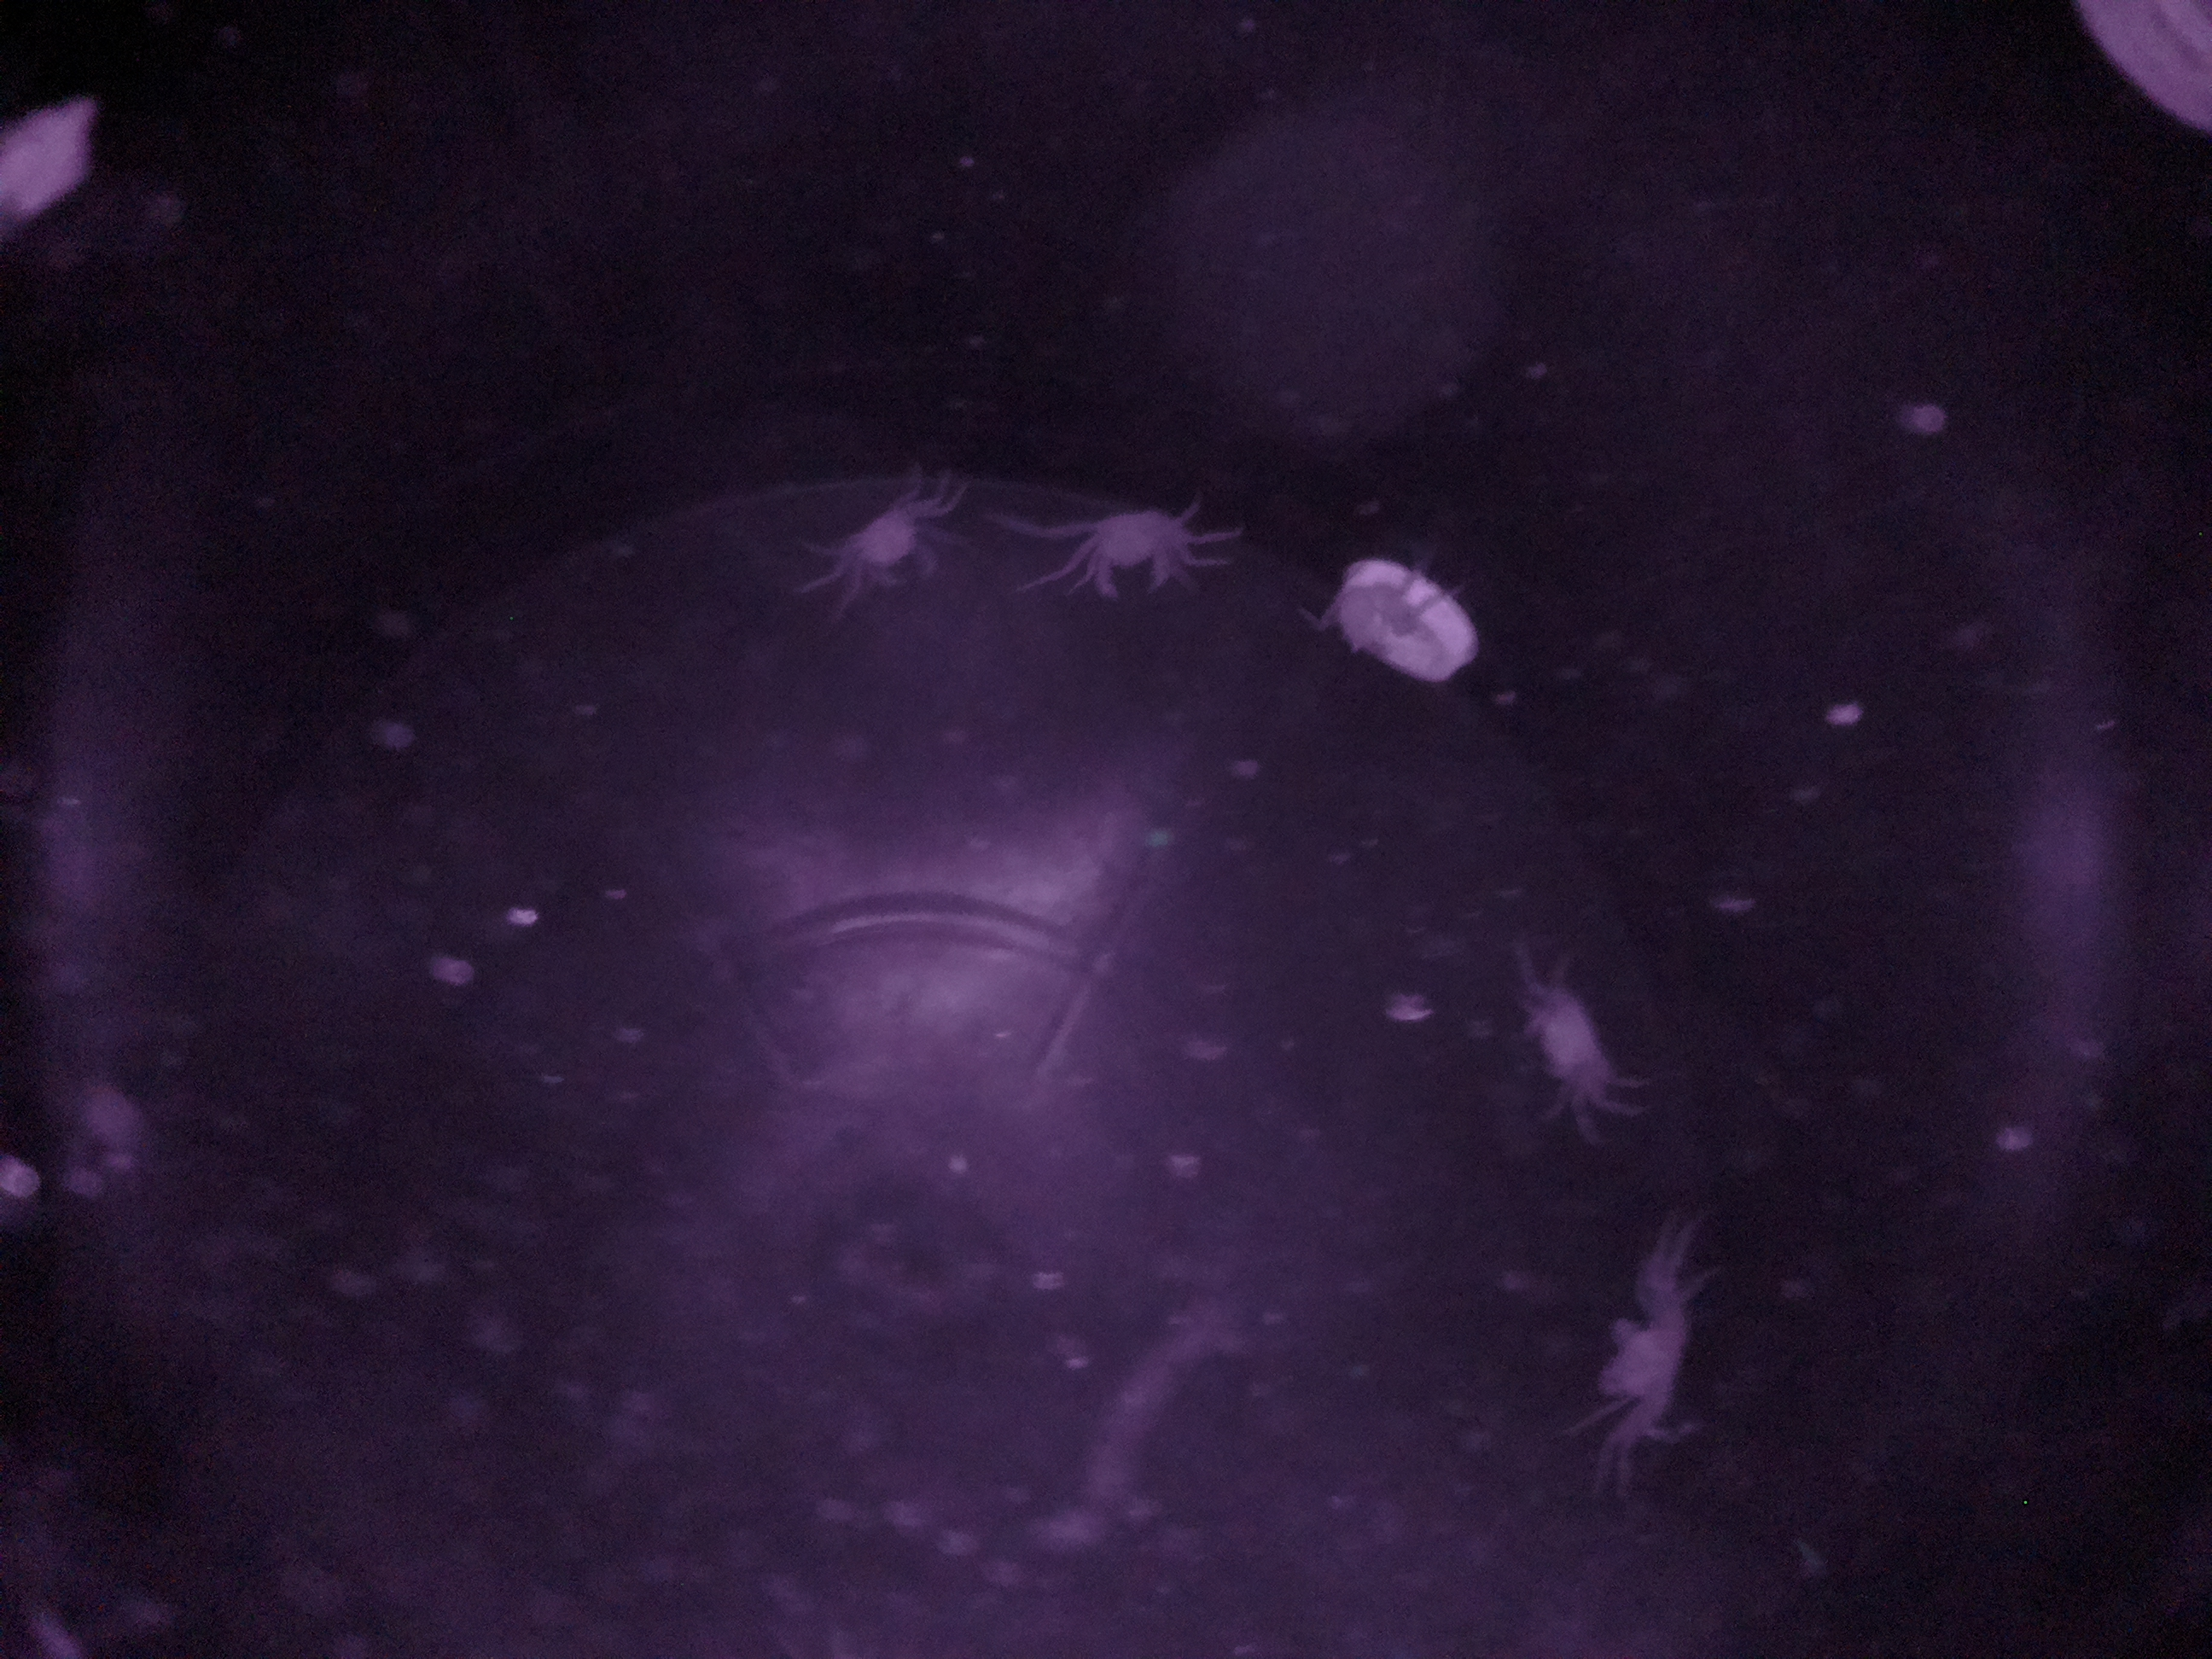Crab: (1062, 474, 1191, 631), (820, 483, 951, 605)
